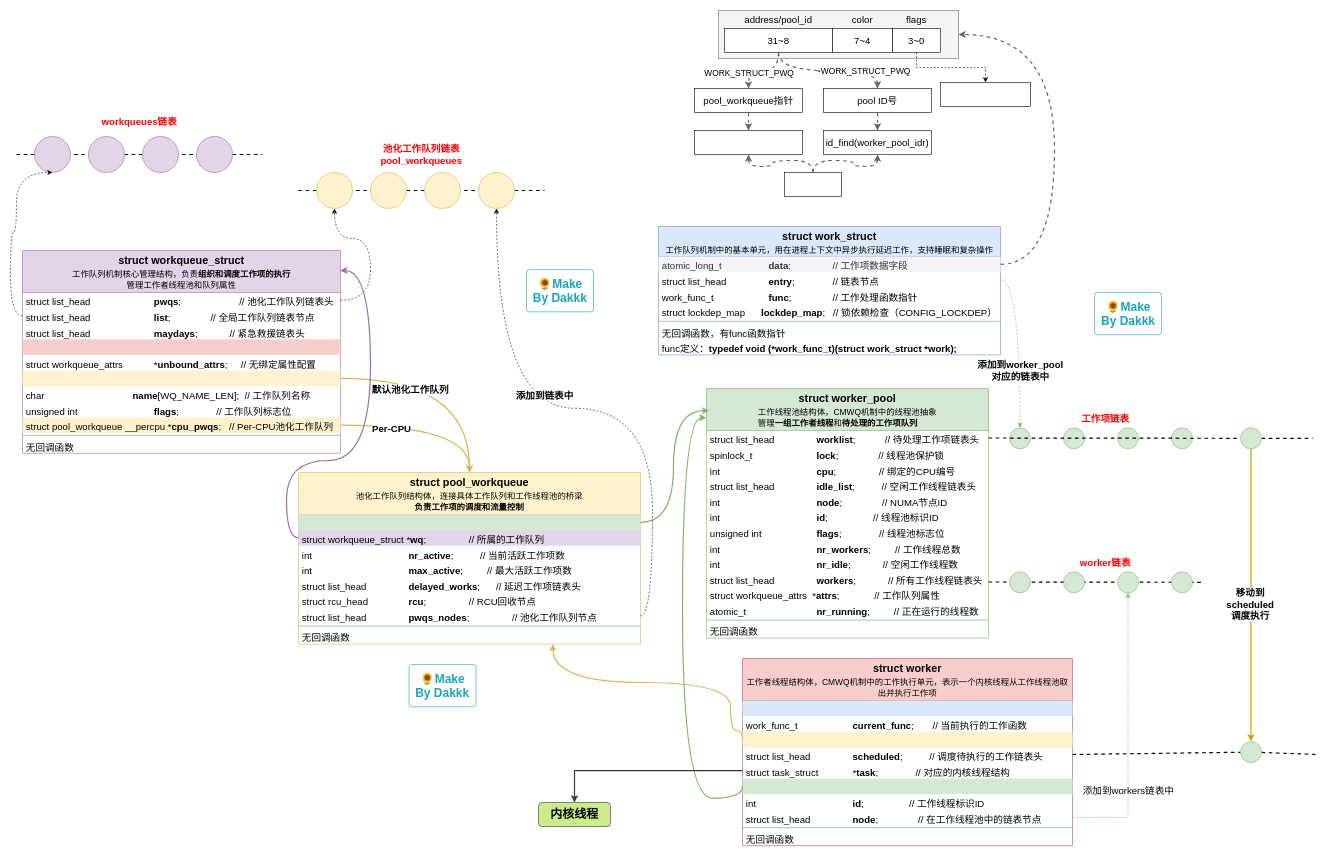
Image size: 1330x858. Some labels were removed from this diagram. Here are the shapes that lost their labels. From the top down, the centre of each, then its label:
pixel 985 94: flags决定高bit用途
pixel 748 142: get_work_pool
pixel 813 184: worker
pixel 181 347: struct worker * rescuer ; // 救援工作线程
pixel 181 378: struct pool_workqueue * dfl_pwq ; // 默认池化工作队列
pixel 469 522: struct worker_pool * pool ; // 关联的工作线程池
pixel 907 708: struct work_struct * current_work ; // 当前正在处理的工作项
pixel 907 739: struct pool_workqueue * current_pwq ; // 当前工作所属的池化工作队列
pixel 907 786: struct worker_pool * pool ; // 所属的工作线程池
